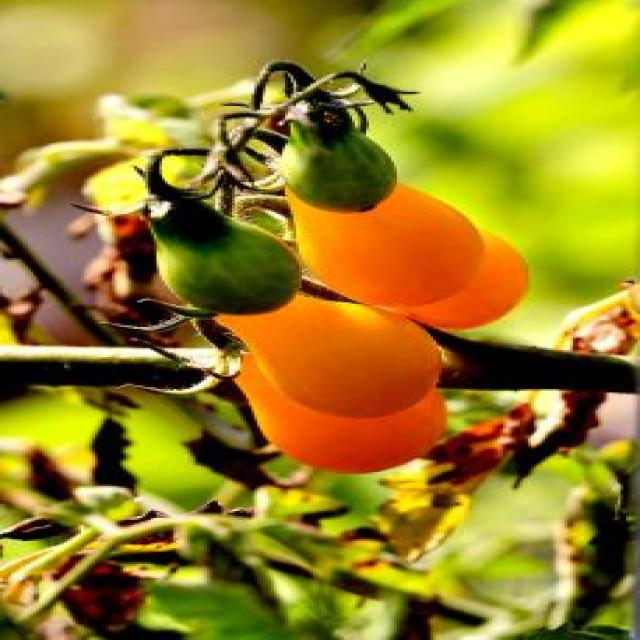level 1: (115, 204, 324, 324), (230, 127, 406, 224)
level 4: (193, 264, 473, 411), (177, 367, 486, 475), (264, 170, 476, 308), (350, 207, 530, 341)
